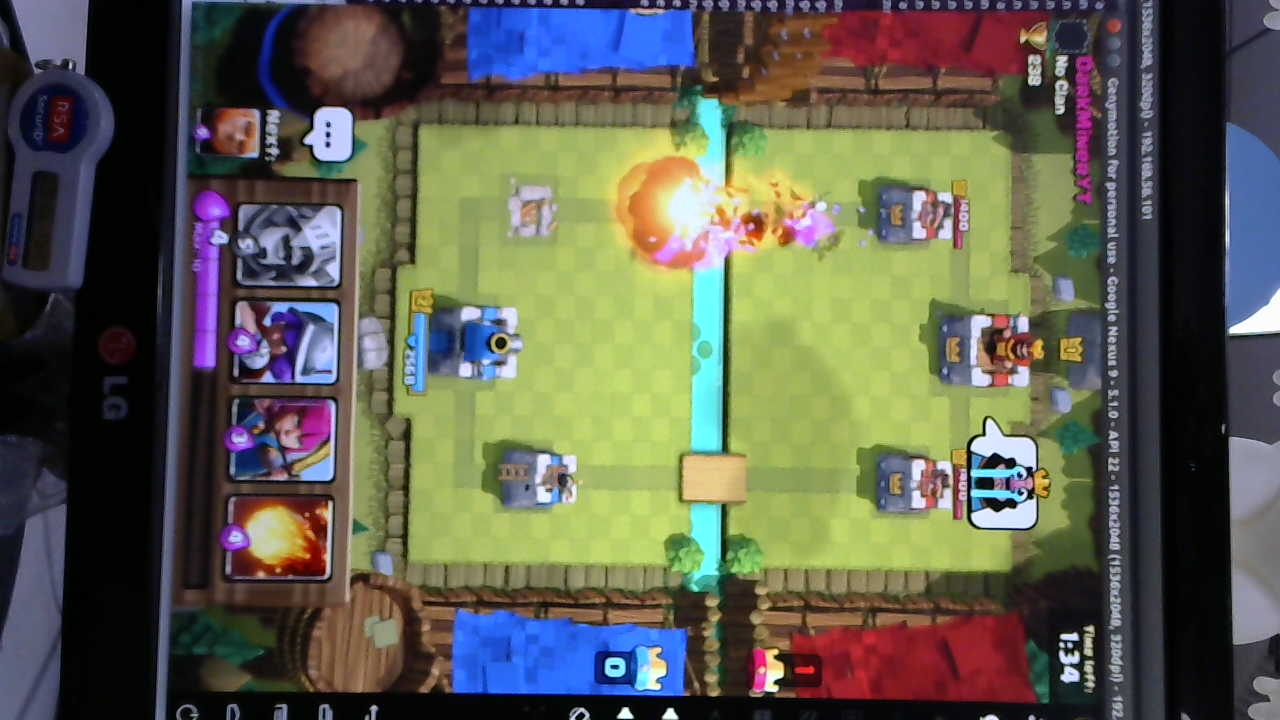fireballL: (627, 164, 709, 261)
